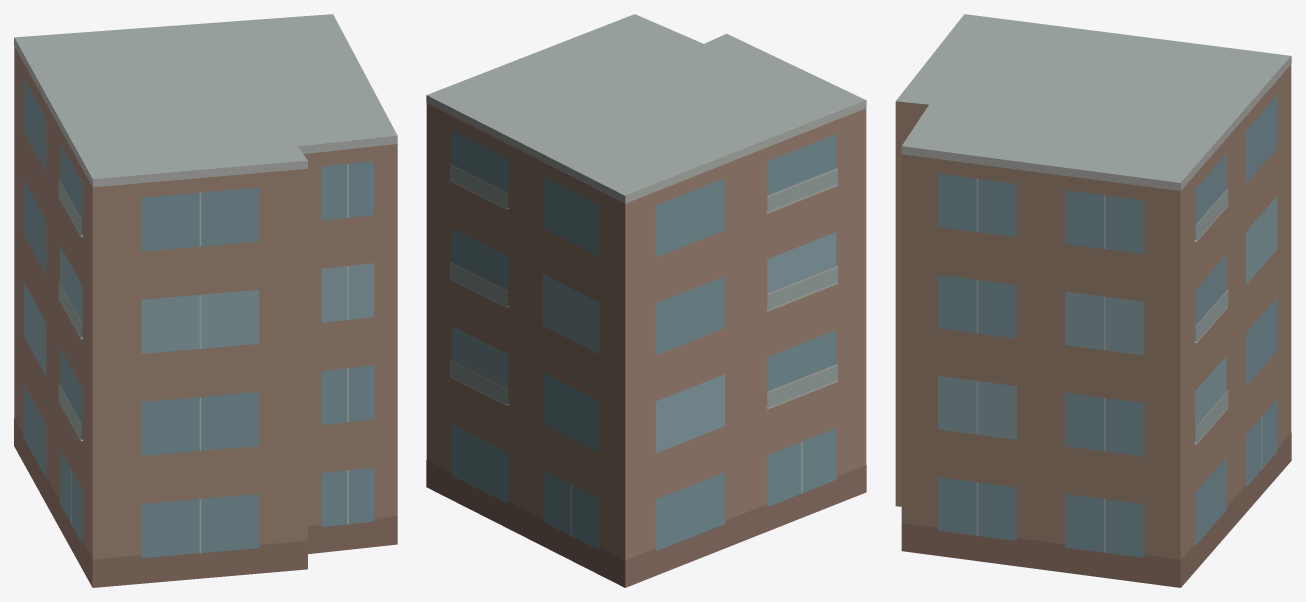
Rendered from survey-upis-32724426.glb.
3 views of the same model, side by side, from view 1: azimuth 30°, elevation 25°; view 2: azimuth 150°, elevation 25°; view 3: azimuth 270°, elevation 25° (orthographic). The views are drawn at different scales.
Visible parts, largest first — view 1: survey-upis-32724426.tmp; view 2: survey-upis-32724426.tmp; view 3: survey-upis-32724426.tmp.
Part boxes in pixels (<box>): survey-upis-32724426.tmp: <box>14,14,397,587</box>; survey-upis-32724426.tmp: <box>426,14,866,587</box>; survey-upis-32724426.tmp: <box>895,14,1291,587</box>.
Bounding box in the file's own units: 10.93 × 12.2 × 10.82.
